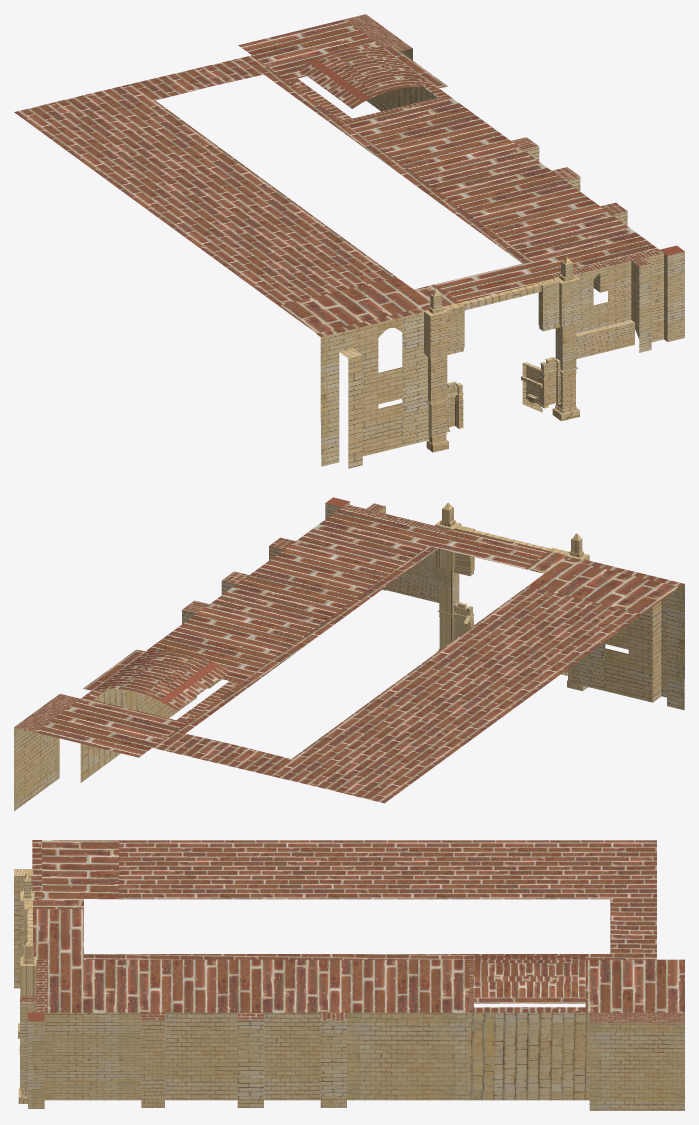
The model's file is catedral2.fbx.
The picture shows the model from 3 angles, top to bottom: view 1: azimuth 30°, elevation 25°; view 2: azimuth 150°, elevation 25°; view 3: azimuth 270°, elevation 25°; orthographic projection. The views are drawn at different scales.
Visible parts, largest first — view 1: Cube.051, Cube.028, Cube.022, Cube.058; view 2: Cube.051, Cube.028, Cube.058, Cube.022; view 3: Cube.051, Cube.058, Cube.022, Cube.028.
Boxes of the visible parts, bbox=[...] form: Cube.051: bbox=[14, 14, 684, 336]; Cube.028: bbox=[320, 312, 428, 468]; Cube.022: bbox=[423, 257, 580, 452]; Cube.058: bbox=[366, 48, 684, 358]; Cube.051: bbox=[14, 497, 684, 803]; Cube.028: bbox=[568, 584, 684, 710]; Cube.058: bbox=[14, 502, 450, 811]; Cube.022: bbox=[435, 502, 589, 691]; Cube.051: bbox=[20, 840, 684, 1022]; Cube.058: bbox=[20, 1002, 684, 1110]; Cube.022: bbox=[18, 873, 36, 1103]; Cube.028: bbox=[14, 869, 32, 988].
Size of the model in its own units: 11099 by 4584 by 17311.
